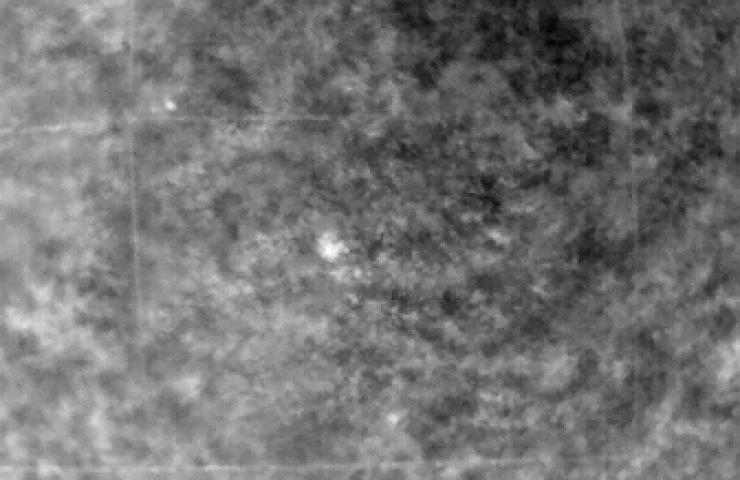landmines: (316, 231, 349, 260)
